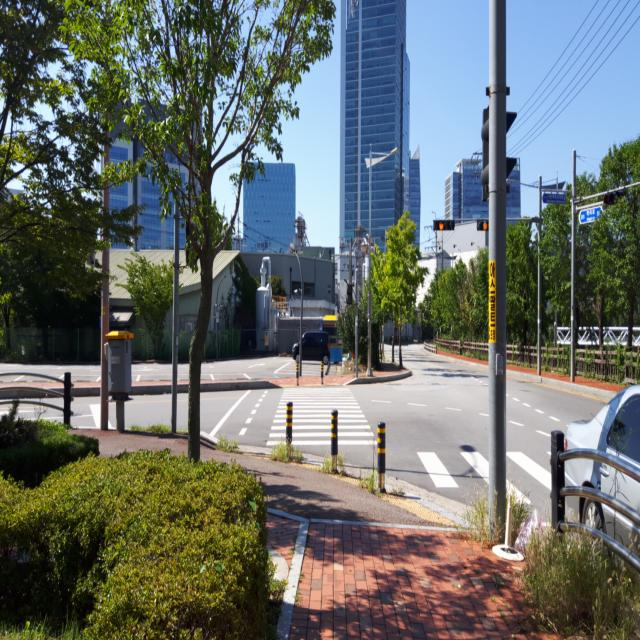횡단보도: (412, 438, 582, 511), (266, 387, 378, 447)
